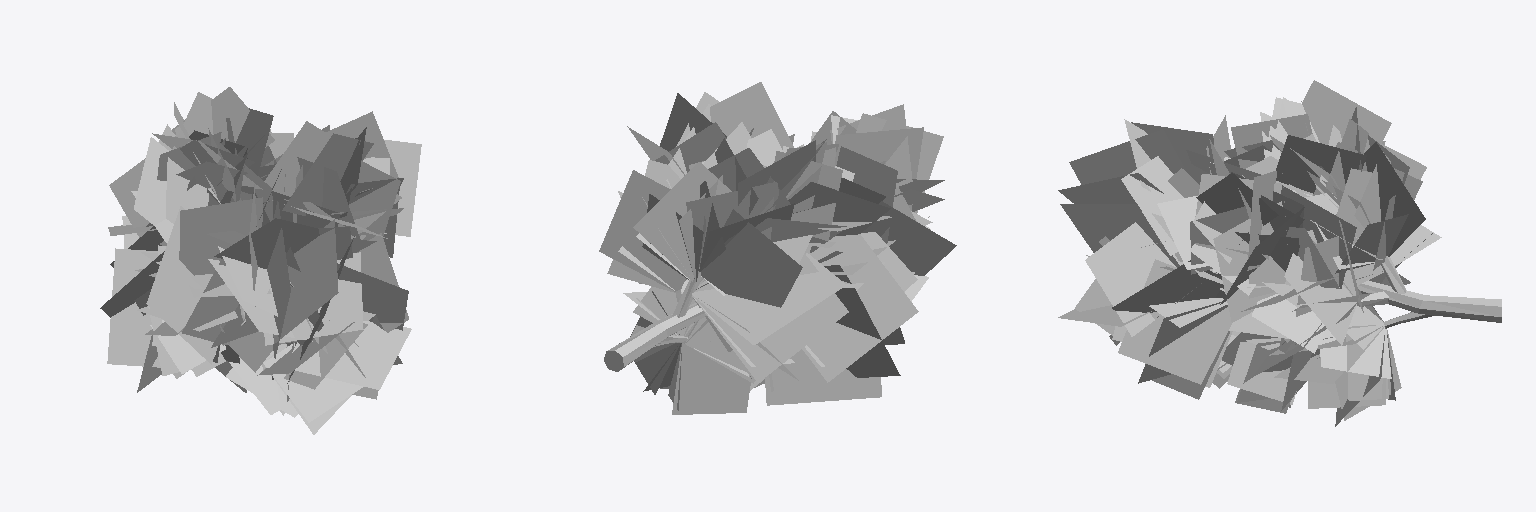
The model's file is balm.obj.
3 views of the same model, side by side, from view 1: azimuth 30°, elevation 25°; view 2: azimuth 150°, elevation 25°; view 3: azimuth 270°, elevation 25° (orthographic).
Visible parts, largest first — view 1: Model__blend_root; view 2: Model__blend_root; view 3: Model__blend_root.
Boxes of the visible parts, box(x1,y1,x2,y2) form: Model__blend_root: box(100, 87, 421, 434); Model__blend_root: box(599, 82, 956, 414); Model__blend_root: box(1058, 80, 1501, 426).
Bounding box in the file's own units: 4.37 × 3.93 × 5.49.